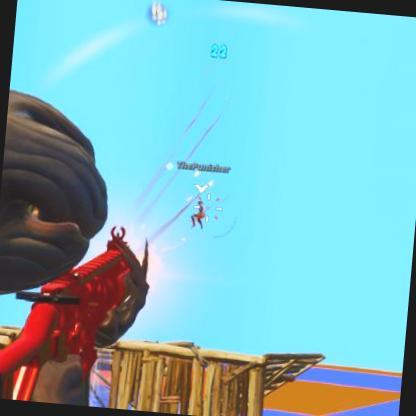person: (187, 194, 209, 232)
